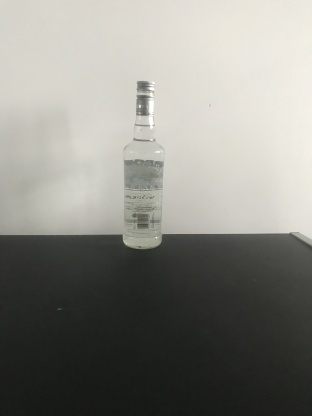nakretka: (135, 77, 155, 116)
